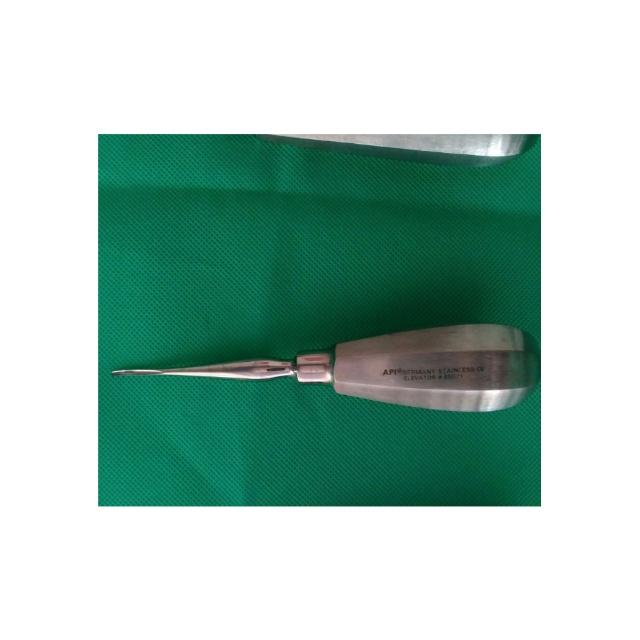botador: (115, 324, 536, 415)
